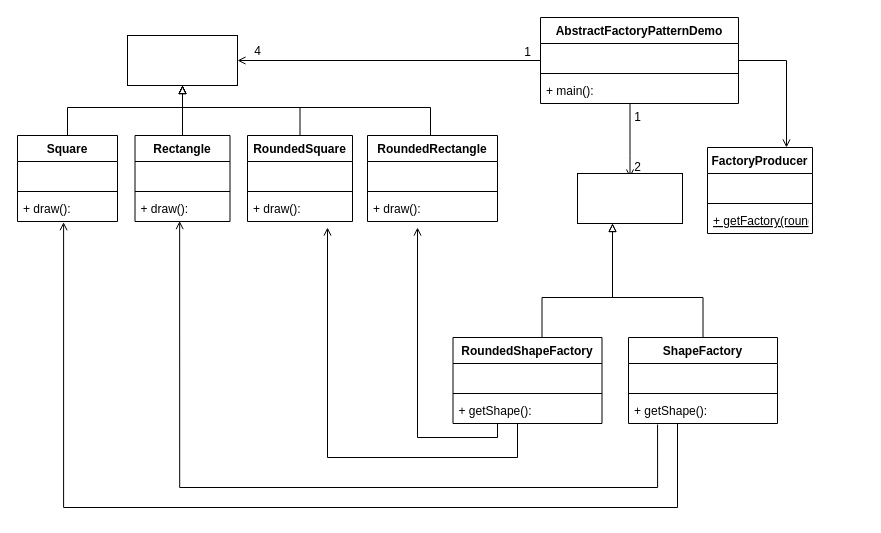
Image size: 881x533. Some labels were removed from this diagram. The centre of each missing label's shape, as x and y in pixels:
"«interface» AbstractFactory" belongs at point (629, 198).
"«interface» Shape" belongs at point (182, 60).
